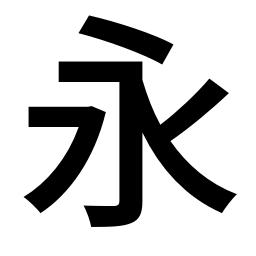D: (77, 13, 175, 54)
HSZ: (107, 59, 146, 96)
Hs: (53, 58, 99, 86)
Ne: (199, 180, 240, 216)
PNc: (150, 111, 180, 155)
PZe: (23, 184, 63, 215)
Ps: (196, 76, 231, 115)
SG: (82, 196, 144, 230)
Sm: (116, 151, 145, 180)
TPZ: (68, 104, 108, 151)
Ts: (24, 103, 58, 130)
